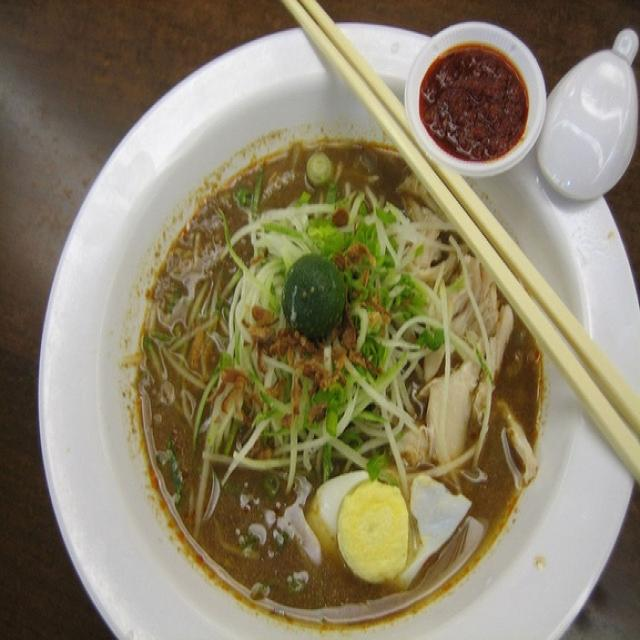面条主食: (60, 21, 613, 628)
